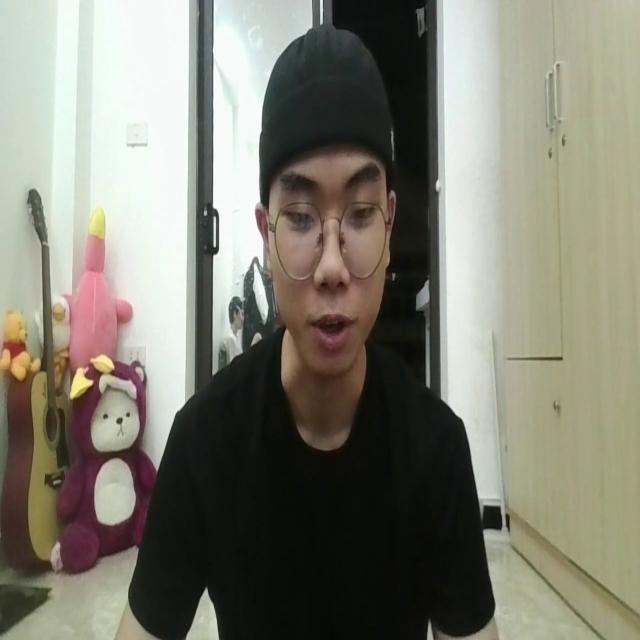student: (129, 28, 490, 640)
